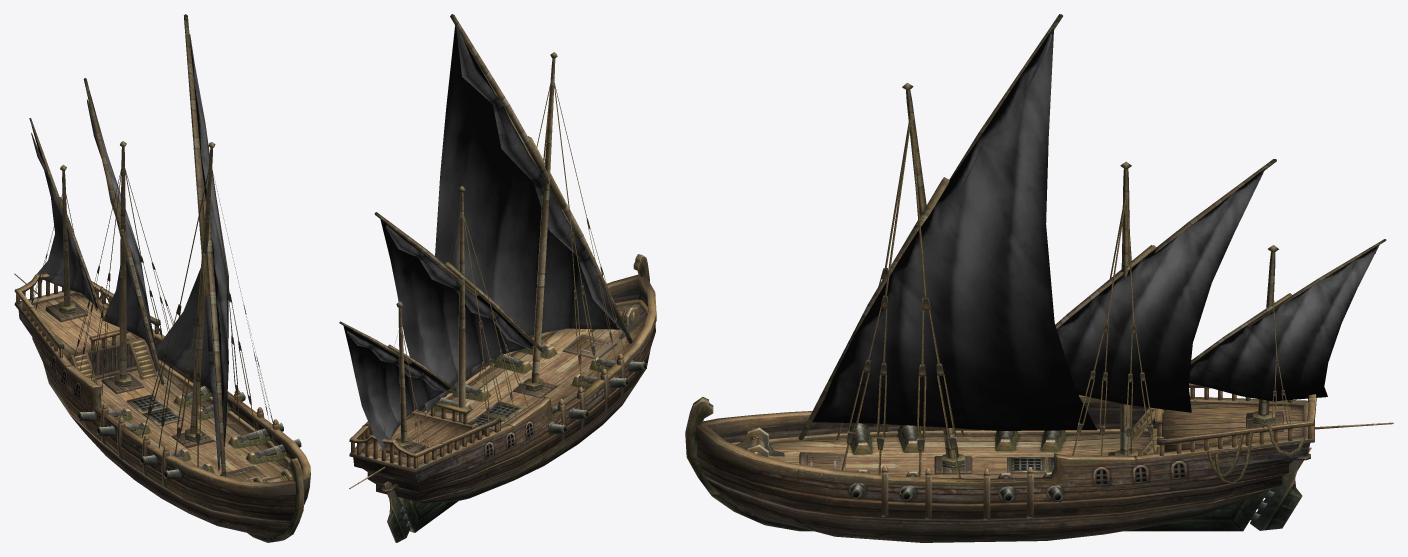
The model's file is T_Ship_01.fbx.
3 views of the same model, side by side, from view 1: azimuth 30°, elevation 25°; view 2: azimuth 150°, elevation 25°; view 3: azimuth 270°, elevation 25° (orthographic). The views are drawn at different scales.
Visible parts, largest first — view 1: T_Ship_01_p2, T_Ship_01, T_Ship_p1, T_Ship_01_p3, T_Ship_p1_off, T_Ship_01_p4; view 2: T_Ship_p1, T_Ship_01_p2, T_Ship_01, T_Ship_p1_off, T_Ship_01_p3, T_Ship_01_p4, T_Ship_01_p5; view 3: T_Ship_p1, T_Ship_01_p2, T_Ship_01, T_Ship_01_p3, T_Ship_01_p4, T_Ship_01_p5.
Boxes of the visible parts, x1,y1,x2,y2 form: T_Ship_01_p2: [14, 290, 310, 523]; T_Ship_01: [14, 14, 292, 482]; T_Ship_p1: [31, 40, 228, 446]; T_Ship_01_p3: [72, 417, 290, 538]; T_Ship_p1_off: [31, 34, 220, 470]; T_Ship_01_p4: [247, 458, 304, 542]; T_Ship_p1: [343, 25, 619, 450]; T_Ship_01_p2: [349, 274, 656, 501]; T_Ship_01: [339, 14, 646, 489]; T_Ship_p1_off: [347, 29, 627, 392]; T_Ship_01_p3: [417, 386, 634, 503]; T_Ship_01_p4: [397, 254, 649, 532]; T_Ship_01_p5: [381, 481, 411, 542]; T_Ship_p1: [812, 28, 1379, 430]; T_Ship_01_p2: [694, 395, 1314, 522]; T_Ship_01: [736, 14, 1393, 484]; T_Ship_01_p3: [708, 480, 1280, 542]; T_Ship_01_p4: [685, 397, 1268, 531]; T_Ship_01_p5: [1250, 447, 1311, 530].
Bounding box in the file's own units: 1.72 × 4.91 × 5.86.
